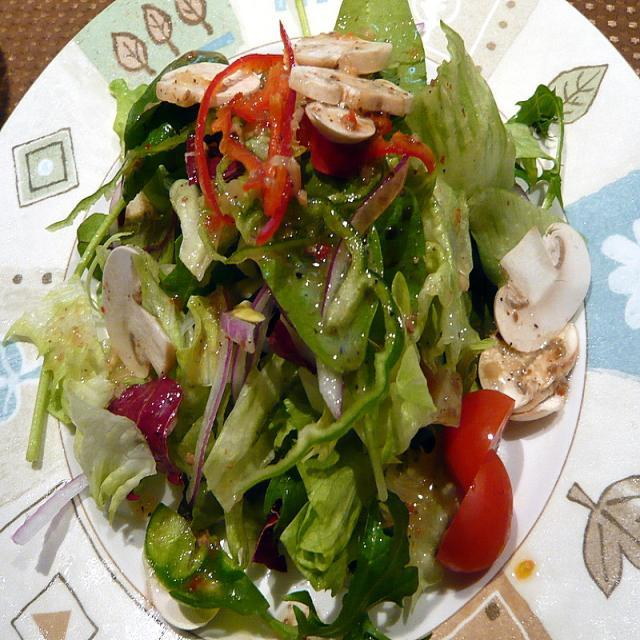Green Salad: (67, 61, 550, 578), (0, 0, 1, 1)
